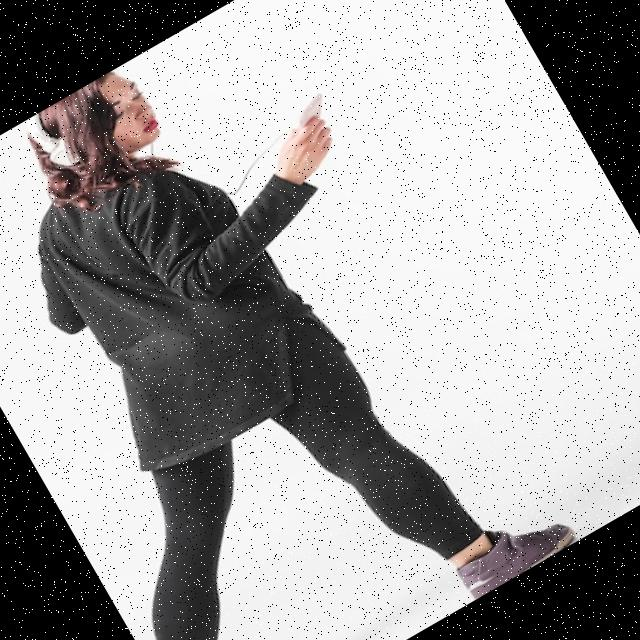Person: (0, 0, 579, 640)
